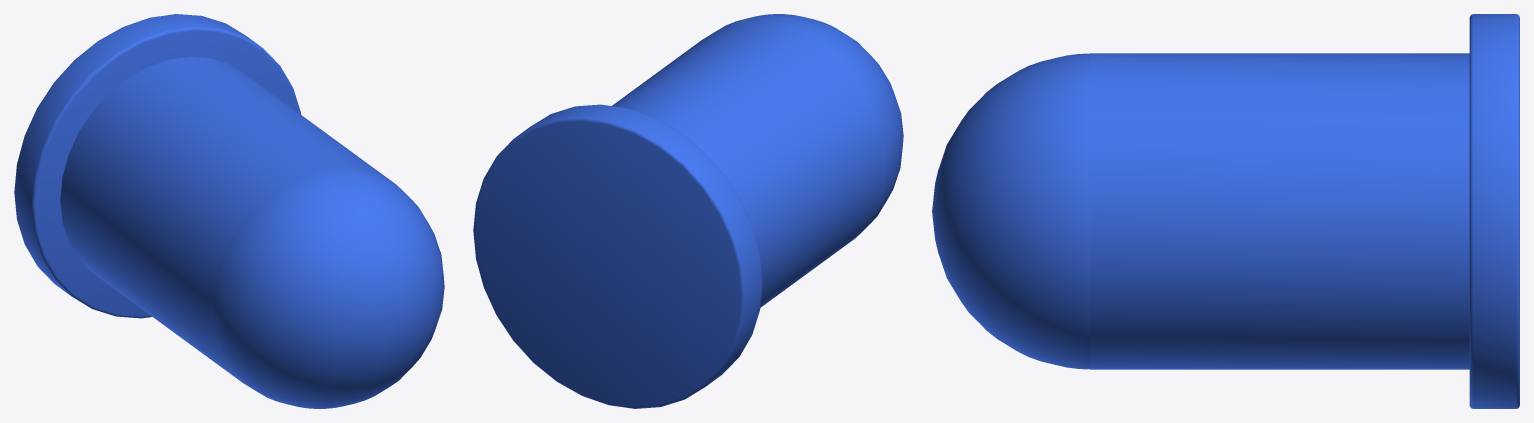
Rendered from ylk.gltf.
3 views of the same model, side by side, from view 1: azimuth 30°, elevation 25°; view 2: azimuth 150°, elevation 25°; view 3: azimuth 270°, elevation 25° (orthographic). The views are drawn at different scales.
Parts seen in each view (by area): view 1: 圆柱体.5, 球体, 圆柱体.6; view 2: 圆柱体.6, 圆柱体.5, 球体; view 3: 圆柱体.5, 球体, 圆柱体.6.
Part boxes in pixels (x1,y1,x2,y2): 圆柱体.5: [60, 57, 394, 381]; 球体: [211, 167, 444, 408]; 圆柱体.6: [14, 14, 301, 318]; 圆柱体.6: [473, 104, 762, 408]; 圆柱体.5: [612, 22, 887, 307]; 球体: [719, 14, 903, 234]; 圆柱体.5: [1090, 53, 1469, 369]; 球体: [932, 53, 1089, 369]; 圆柱体.6: [1469, 14, 1519, 408].
Bounding box in the file's own units: 0.5 × 0.5 × 0.7435.
